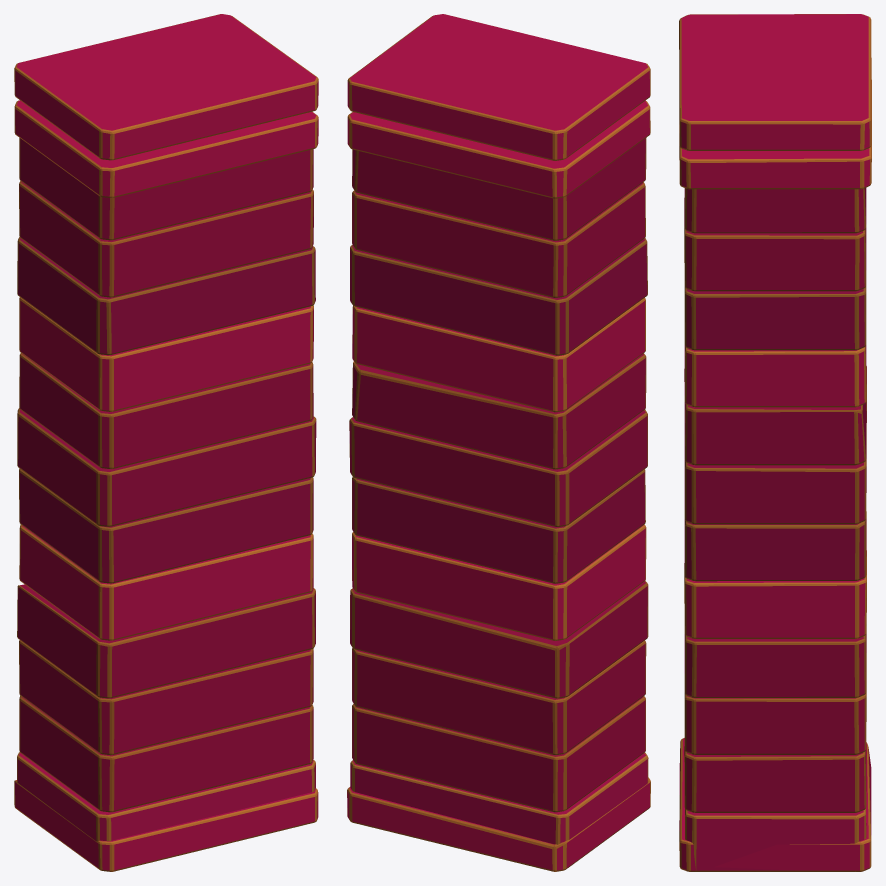
File: SM_RV_WallEnd.fbx
3 views of the same model, side by side, from view 1: azimuth 30°, elevation 25°; view 2: azimuth 150°, elevation 25°; view 3: azimuth 270°, elevation 25° (orthographic).
Parts seen in each view (by area): view 1: SM_RV_WallEnd; view 2: SM_RV_WallEnd; view 3: SM_RV_WallEnd.
Boxes of the visible parts, bbox=[...] form: SM_RV_WallEnd: bbox=[14, 14, 318, 871]; SM_RV_WallEnd: bbox=[347, 14, 650, 871]; SM_RV_WallEnd: bbox=[679, 14, 871, 871].
Size of what is drawn, in the model's own units: 151 by 201 by 649.
